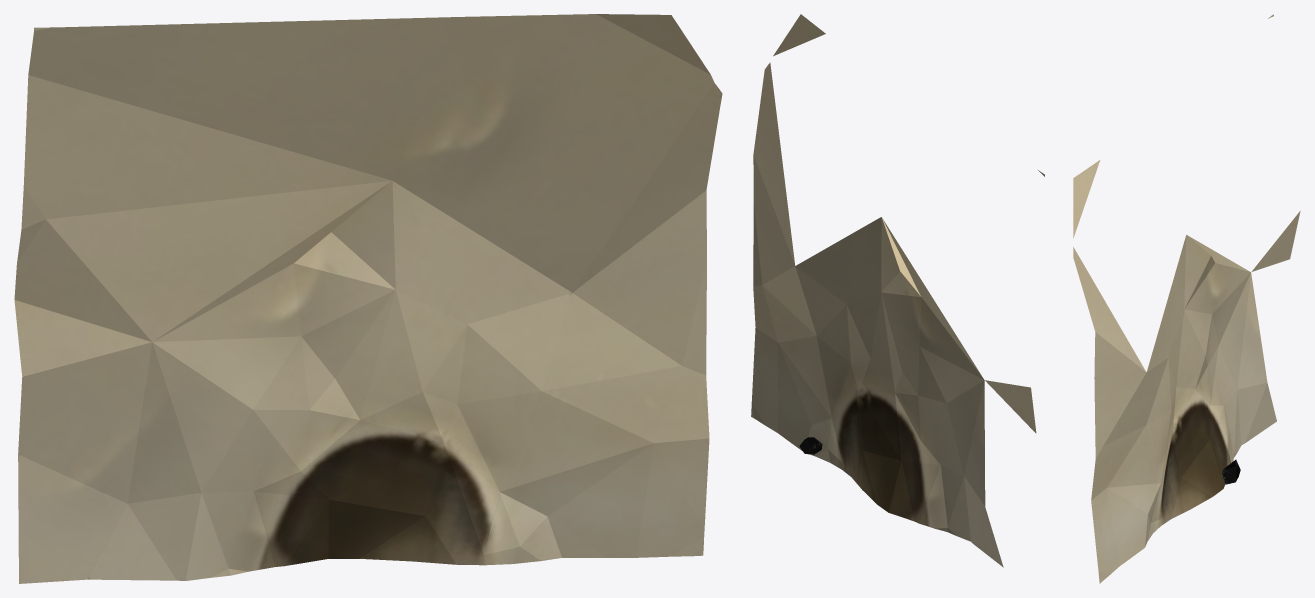
The picture shows the model from 3 angles, left to right: view 1: azimuth 30°, elevation 25°; view 2: azimuth 150°, elevation 25°; view 3: azimuth 270°, elevation 25°; orthographic projection. The views are drawn at different scales.
Bounding box in the file's own units: 1.67 × 1.67 × 0.8878.
Materials: 3 (3 with a texture image).
